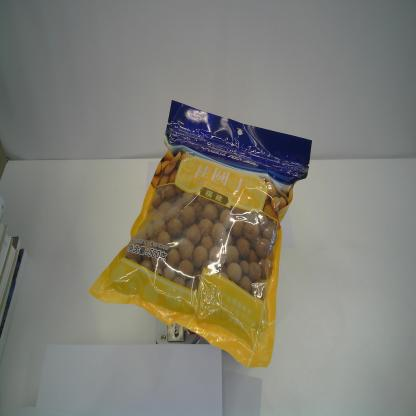Dried Food: (86, 97, 314, 369)
